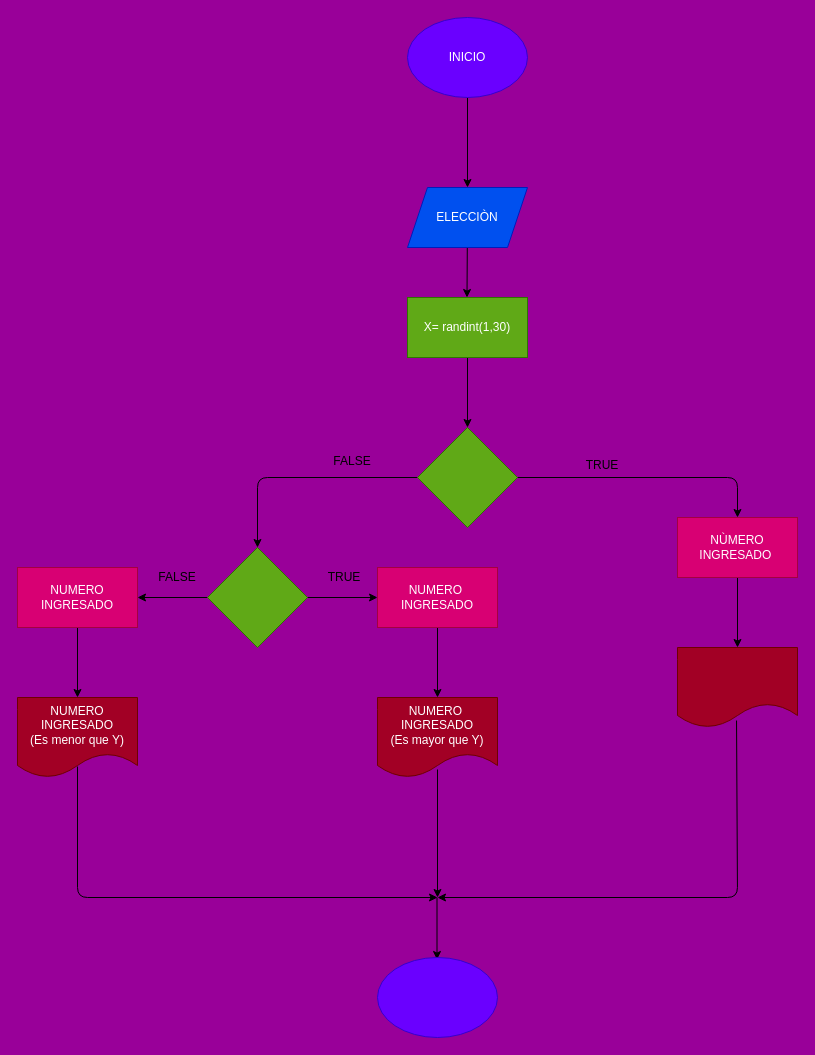
The diagram is 815 pixels wide and 1055 high, and some of its shapes have lost their labels. Here are the shapes that lost their labels. From the top down, the centre of each, then its label:
the point at 467,477: X== ELECCIÒN
the point at 257,597: X>ELECCIÒN
the point at 737,687: ACERTADO
the point at 437,997: FIN
